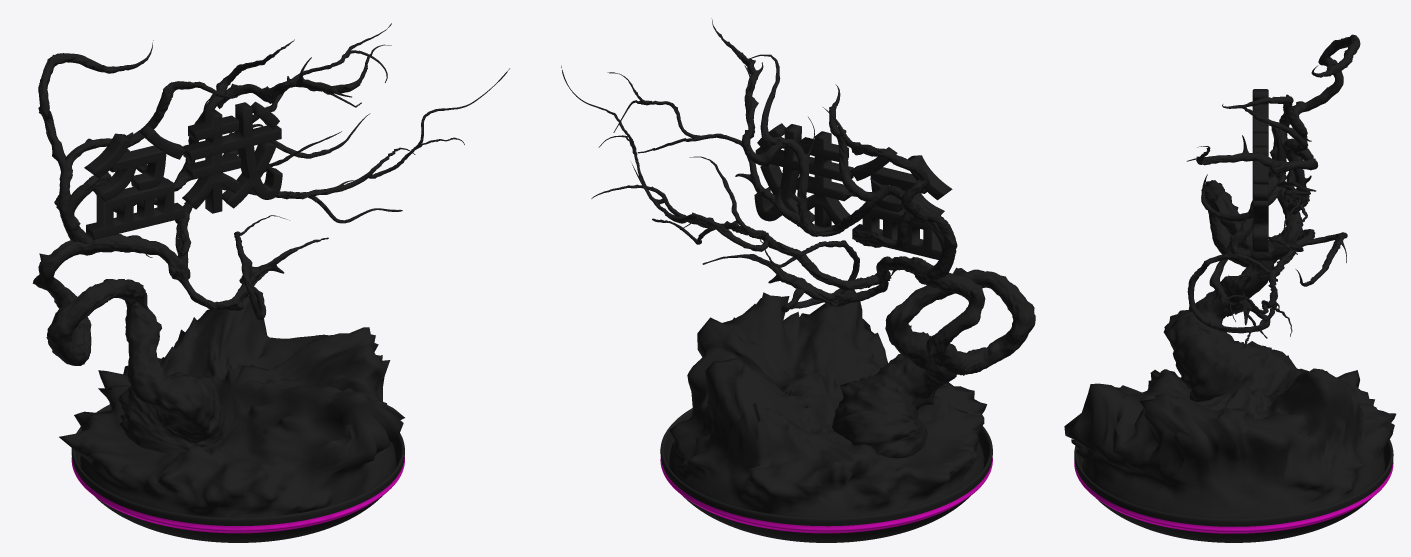
The model's file is bonsai2.glb.
3 views of the same model, side by side, from view 1: azimuth 30°, elevation 25°; view 2: azimuth 150°, elevation 25°; view 3: azimuth 270°, elevation 25° (orthographic). The views are drawn at different scales.
Visible parts, largest first — view 1: bowl, tree; view 2: bowl, tree; view 3: bowl, tree.
Part boxes in pixels (box(x1,y1,x2,y2)): bowl: box(59, 101, 404, 542); tree: box(32, 23, 509, 453); bowl: box(660, 123, 992, 542); tree: box(561, 18, 1035, 458); bowl: box(1064, 89, 1396, 542); tree: box(1163, 34, 1360, 401).
Size of the model in its own units: 14.28 by 13.59 by 9.
